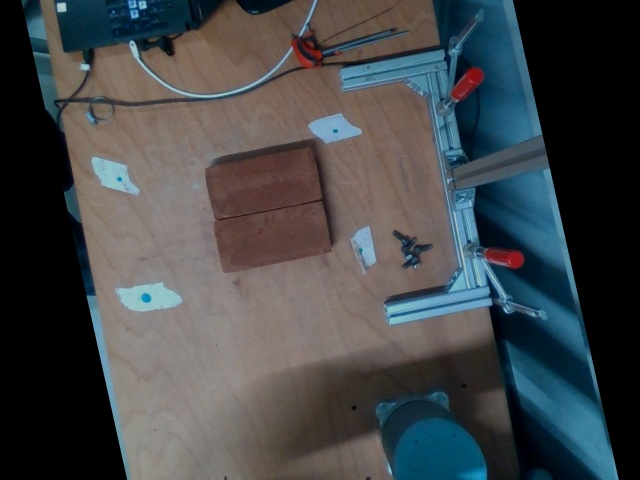brick: (213, 201, 330, 274), (204, 148, 320, 221)
